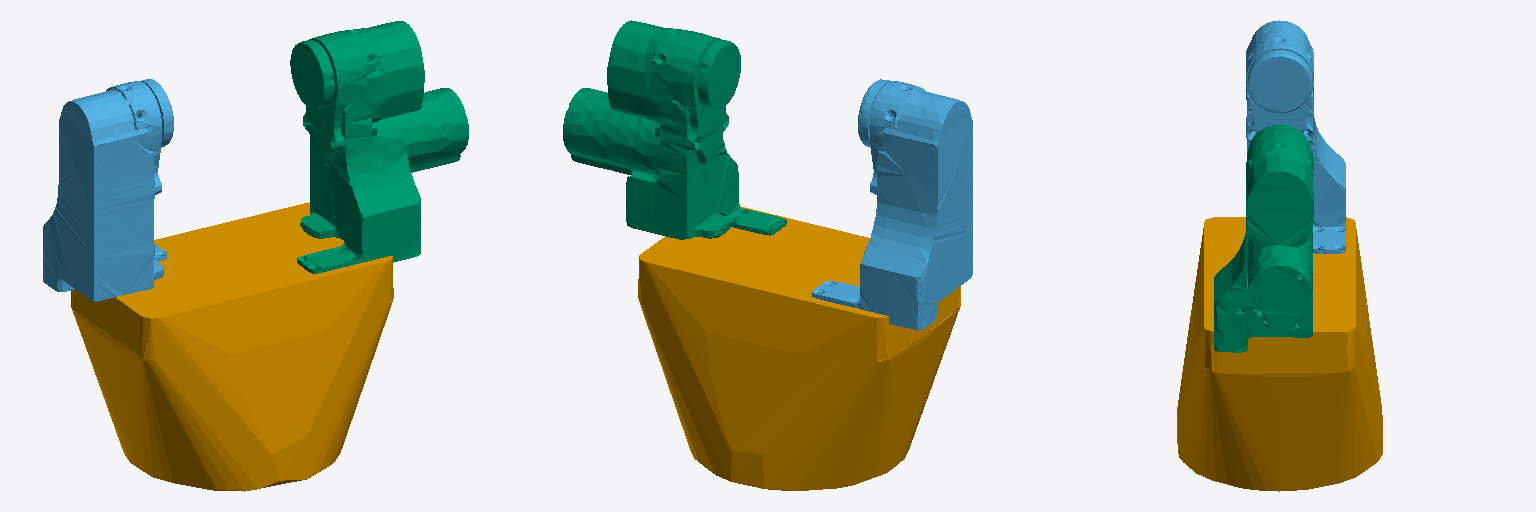
URDF robot description (parallel_jaw):
<?xml version="1.0" ?>
<robot name="parallel_jaw">
	<link name="gripper_base">
		<inertial>
			<origin rpy="0.00000 -0.00000 0.00000" xyz="0.00000 0.00000 0.00000"/>
			<mass value="1.0"/>
			<inertia ixx="0.1" ixy="0" ixz="0" iyy="0.1" iyz="0" izz="0.1"/>
		</inertial>
		<visual>
			<origin rpy="0 0 0" xyz="0.00000 0.00000 0.00000"/>
			<geometry>
				<mesh filename="../assets/hand_meshes/gripper_base.obj" scale="1.00000 1.00000 1.00000"/>
			</geometry>
		</visual>
	</link>

	<link name="left_finger">
		<inertial>
			<origin rpy="0.00000 -0.00000 0.00000" xyz="0.00000 0.00000 0.00000"/>
			<mass value="0.1"/>
			<inertia ixx="0.1" ixy="0" ixz="0" iyy="0.1" iyz="0" izz="0.1"/>
		</inertial>
		<visual>
			<origin rpy="0.00000 0.00000 0.00000" xyz="0.00000 0.00000 0.00000"/>
			<geometry>
				<mesh filename="../assets/hand_meshes/left_finger.obj" scale="1.00000 1.00000 1.00000"/>
			</geometry>
		</visual>
	</link>

	<link name="right_finger">
		<inertial>
			<origin rpy="0.00000 0.00000 0.00000" xyz="0.00000 0.00000 0.00000"/>
			<mass value="0.00000"/>
			<inertia ixx="0.00000" ixy="0" ixz="0" iyy="0.00000" iyz="0" izz="0.00000"/>
		</inertial>
		<visual>
			<origin rpy="0.00000 0.00000 3.14159" xyz="0.00000 0.00000 0.00000"/>
			<geometry>
				<mesh filename="../assets/hand_meshes/right_finger.obj" scale="1.00000 1.00000 1.00000"/>
			</geometry>
		</visual>
	</link>
	<joint name="finger_joint1" type="prismatic">
		<parent link="gripper_base"/>
		<child link="left_finger"/>
		<limit effort="20.00000" lower="0.00000" upper="0.02550" velocity="1.00000"/>
		<dynamics damping="1.0" friction="0.0001"/>
		<origin rpy="0.00000 0.00000 0.00000" xyz="-0.02550 0.00000 0.00000"/>
		<axis xyz="1.00000 0.00000 0.00000"/>
	</joint>
	<joint name="finger_joint2" type="prismatic">
		<parent link="gripper_base"/>
		<child link="right_finger"/>
		<limit effort="20.00000" lower="0.00000" upper="0.02550" velocity="1.00000"/>
		<dynamics damping="1.0" friction="0.0001"/>
		<origin rpy="0.00000 0.00000 3.14159" xyz="0.02550 0.00000 0.00000"/>
		<axis xyz="1.00000 0.00000 0.00000"/>
	</joint>
</robot>

--- Facts derived from the render (not from the file) ---
The picture shows the robot from 3 angles, left to right: view 1: azimuth 30°, elevation 25°; view 2: azimuth 150°, elevation 25°; view 3: azimuth 270°, elevation 25°; orthographic projection.
Robot: parallel_jaw — 3 links, 2 joints (2 prismatic); root link gripper_base; default pose: every joint at zero.
Links seen in each view (by area): view 1: gripper_base, right_finger, left_finger; view 2: gripper_base, right_finger, left_finger; view 3: gripper_base, right_finger, left_finger.
Boxes of the visible links, x1=… form: gripper_base: x1=71, y1=202, x2=393, y2=491; right_finger: x1=290, y1=21, x2=468, y2=273; left_finger: x1=43, y1=79, x2=173, y2=301; gripper_base: x1=638, y1=206, x2=960, y2=490; right_finger: x1=563, y1=20, x2=786, y2=239; left_finger: x1=812, y1=79, x2=972, y2=329; gripper_base: x1=1177, y1=217, x2=1382, y2=491; right_finger: x1=1214, y1=124, x2=1313, y2=352; left_finger: x1=1246, y1=20, x2=1345, y2=253.
Size in the robot's own frame: 0.1296 by 0.0654 by 0.126 metres.
3 mesh visuals loaded from 3 distinct referenced files (3 OBJ).